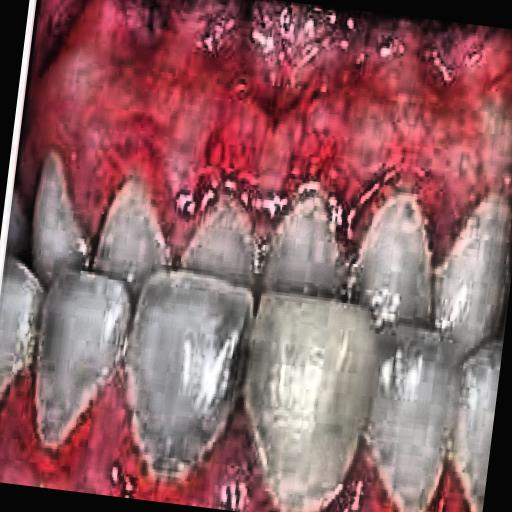Gingivitis: (19, 5, 512, 245)
